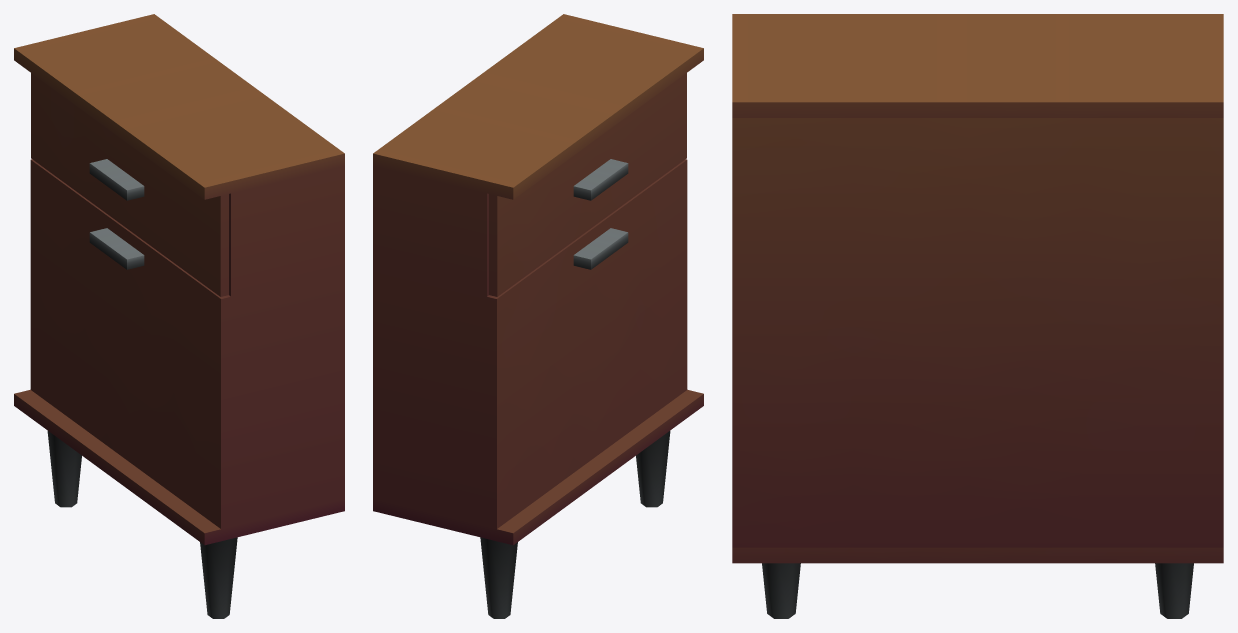
The model's file is TSP_Bathroom_Wall_Cabinet_01C.fbx.
3 views of the same model, side by side, from view 1: azimuth 30°, elevation 25°; view 2: azimuth 150°, elevation 25°; view 3: azimuth 270°, elevation 25° (orthographic). The views are drawn at different scales.
Visible parts, largest first — view 1: TSP_Bathroom_Wall_Cabinet_01C, TSP_Bathroom_Wall_Cabinet_01C_Drawer; view 2: TSP_Bathroom_Wall_Cabinet_01C, TSP_Bathroom_Wall_Cabinet_01C_Drawer; view 3: TSP_Bathroom_Wall_Cabinet_01C.
Boxes of the visible parts, bbox=[...] form: TSP_Bathroom_Wall_Cabinet_01C: bbox=[14, 14, 344, 618]; TSP_Bathroom_Wall_Cabinet_01C_Drawer: bbox=[31, 73, 228, 296]; TSP_Bathroom_Wall_Cabinet_01C: bbox=[373, 14, 703, 618]; TSP_Bathroom_Wall_Cabinet_01C_Drawer: bbox=[489, 73, 686, 296]; TSP_Bathroom_Wall_Cabinet_01C: bbox=[732, 14, 1223, 618].
Size of the model in its own units: 0.4279 by 1.3 by 1.
